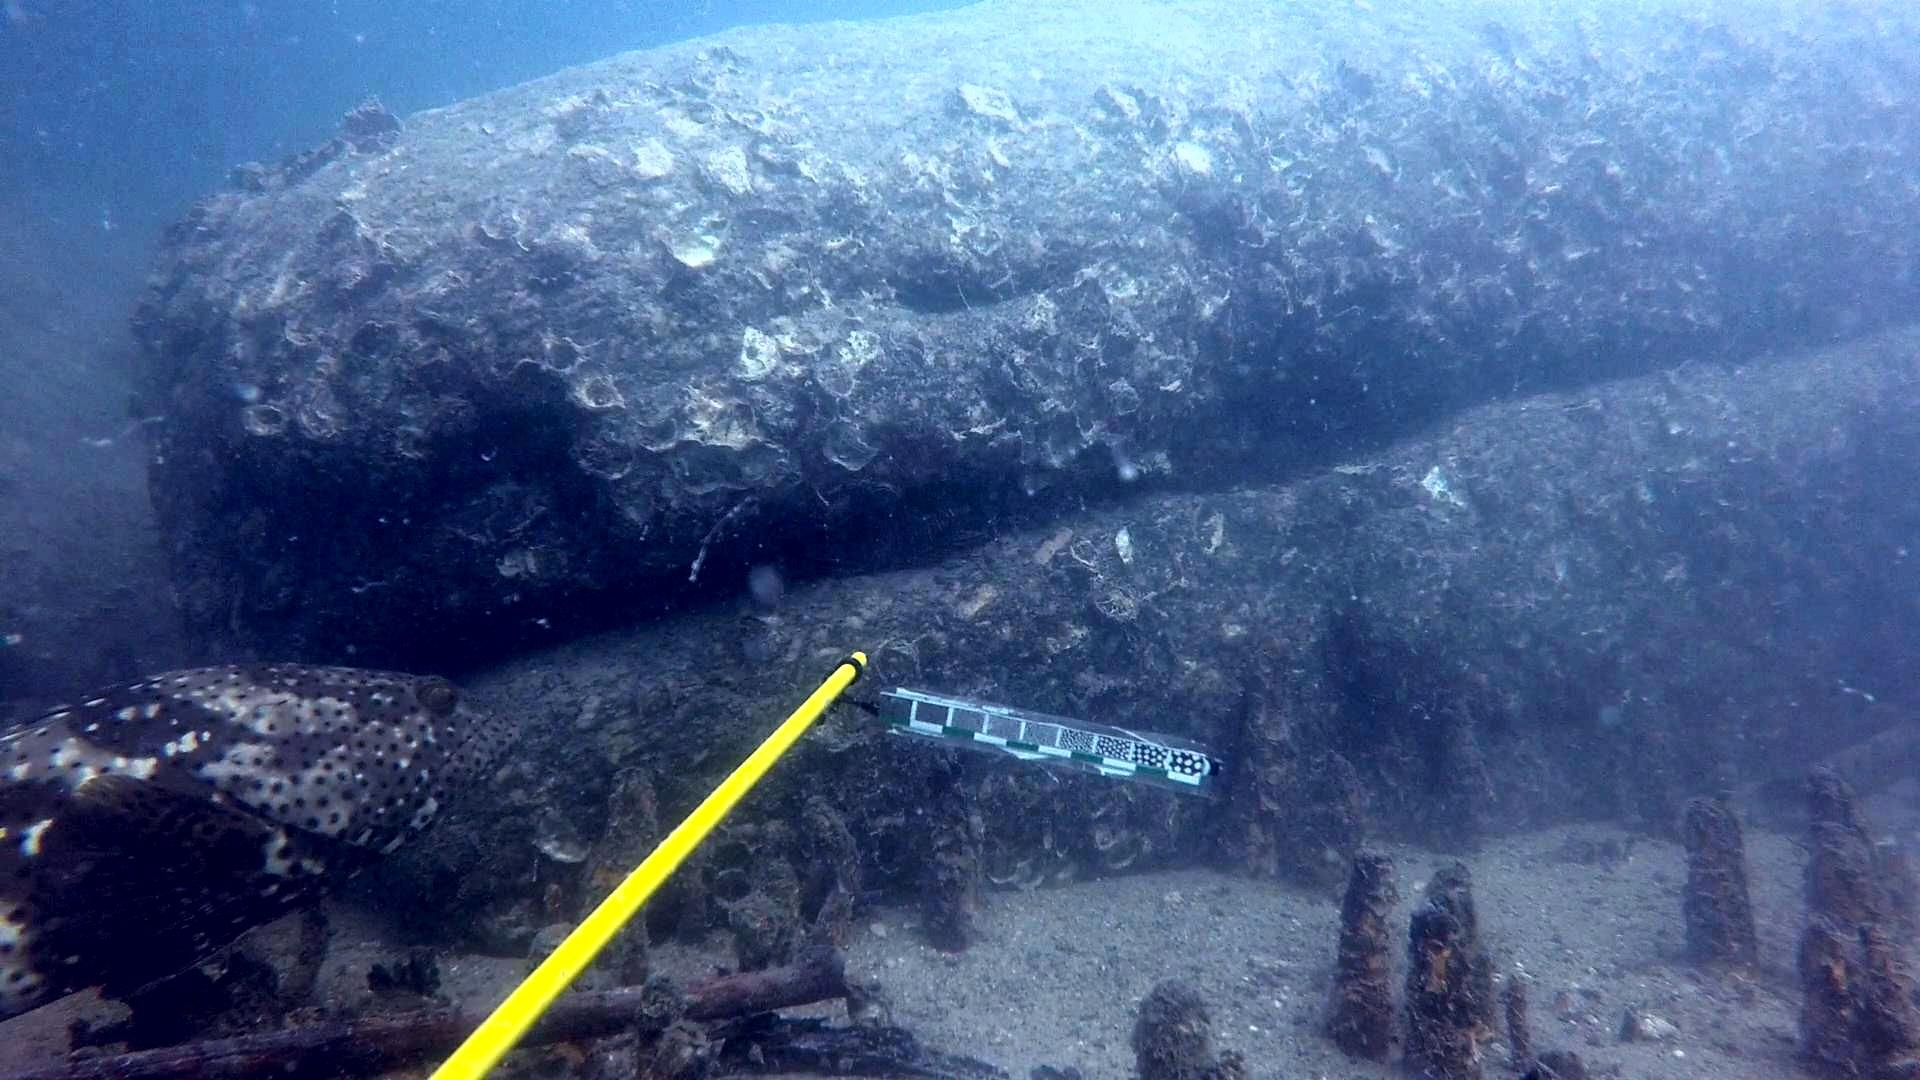epinephelus: (0, 655, 529, 1029)
